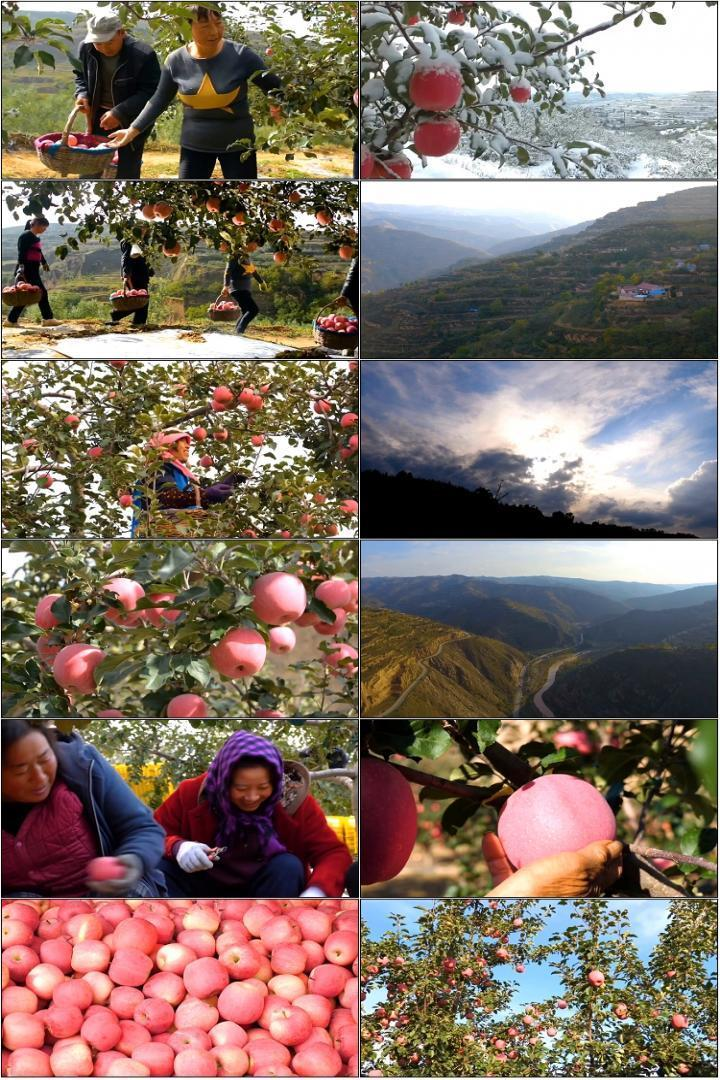apple: (4, 881, 361, 1065), (489, 770, 614, 869), (249, 570, 307, 625), (212, 627, 267, 679), (52, 643, 104, 694), (409, 70, 460, 110), (102, 577, 144, 623), (414, 118, 461, 156), (315, 580, 350, 609), (321, 643, 356, 672), (167, 695, 207, 717)
